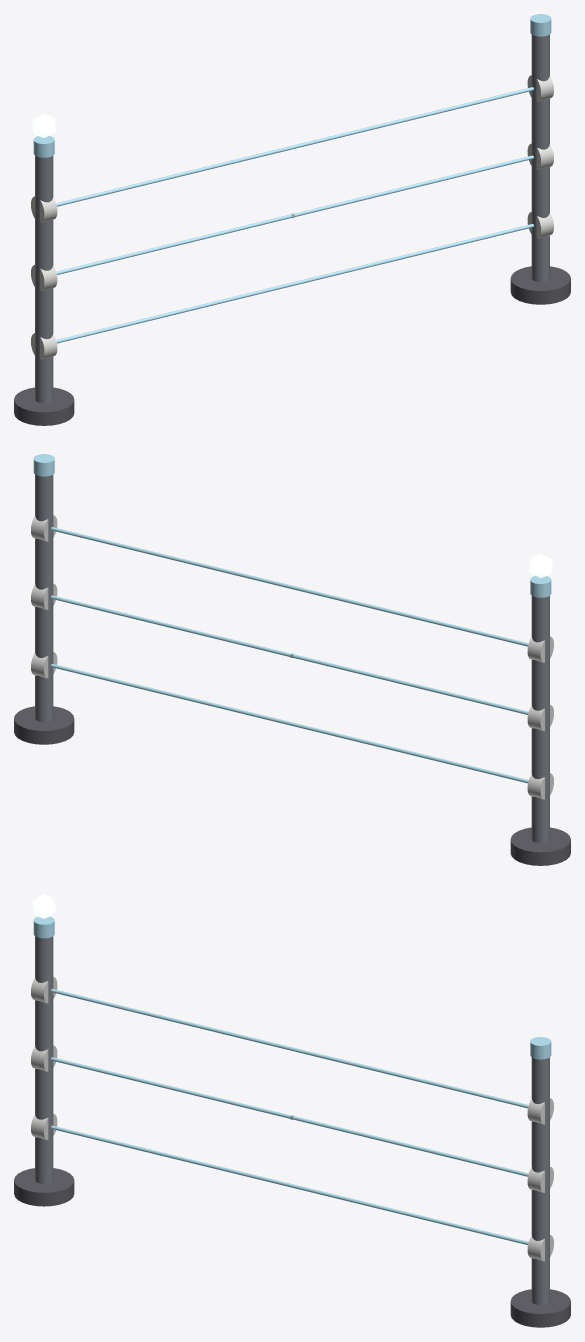
File: base_shock_fence.fbx
The picture shows the model from 3 angles, top to bottom: view 1: azimuth 30°, elevation 25°; view 2: azimuth 150°, elevation 25°; view 3: azimuth 330°, elevation 25°; orthographic projection.
Parts seen in each view (by area): view 1: base_shock_fence; view 2: base_shock_fence; view 3: base_shock_fence.
Part boxes in pixels (box(x1,y1,x2,y2)): base_shock_fence: box(14, 14, 570, 425); base_shock_fence: box(14, 454, 570, 865); base_shock_fence: box(14, 916, 570, 1327).
Bounding box in the file's own units: 4.2 × 2.19 × 0.4.
